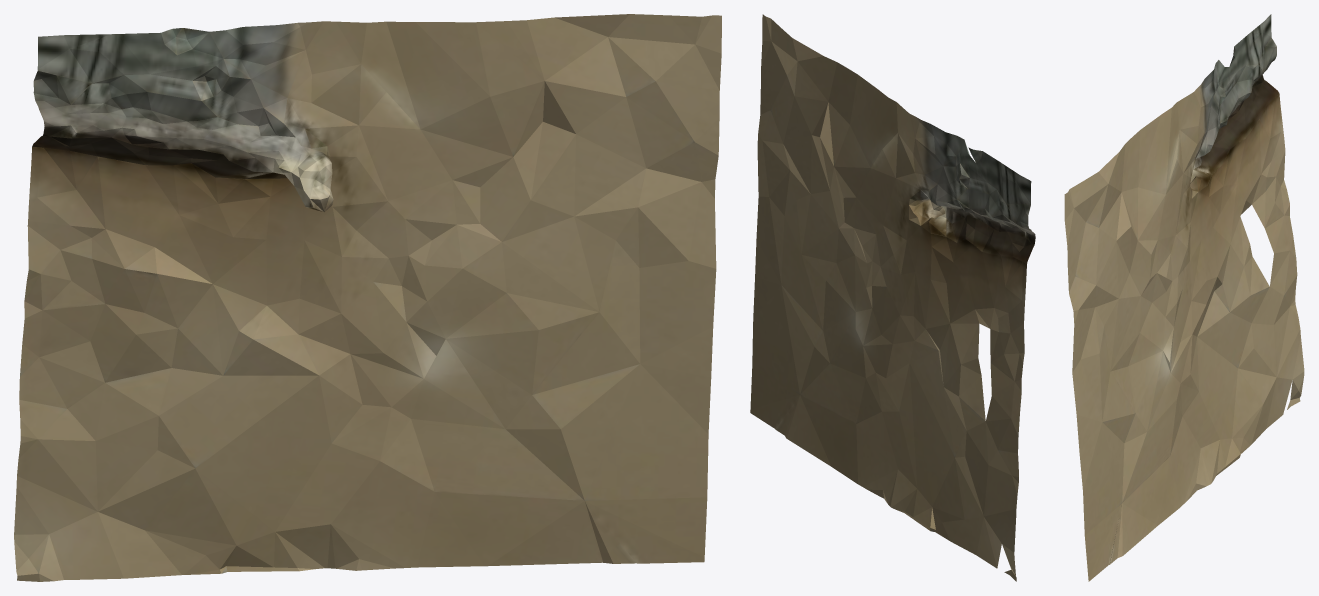
The picture shows the model from 3 angles, left to right: view 1: azimuth 30°, elevation 25°; view 2: azimuth 150°, elevation 25°; view 3: azimuth 270°, elevation 25°; orthographic projection. The views are drawn at different scales.
Size of the model in its own units: 1.67 by 1.67 by 0.9404.
3 materials, 3 textured.
